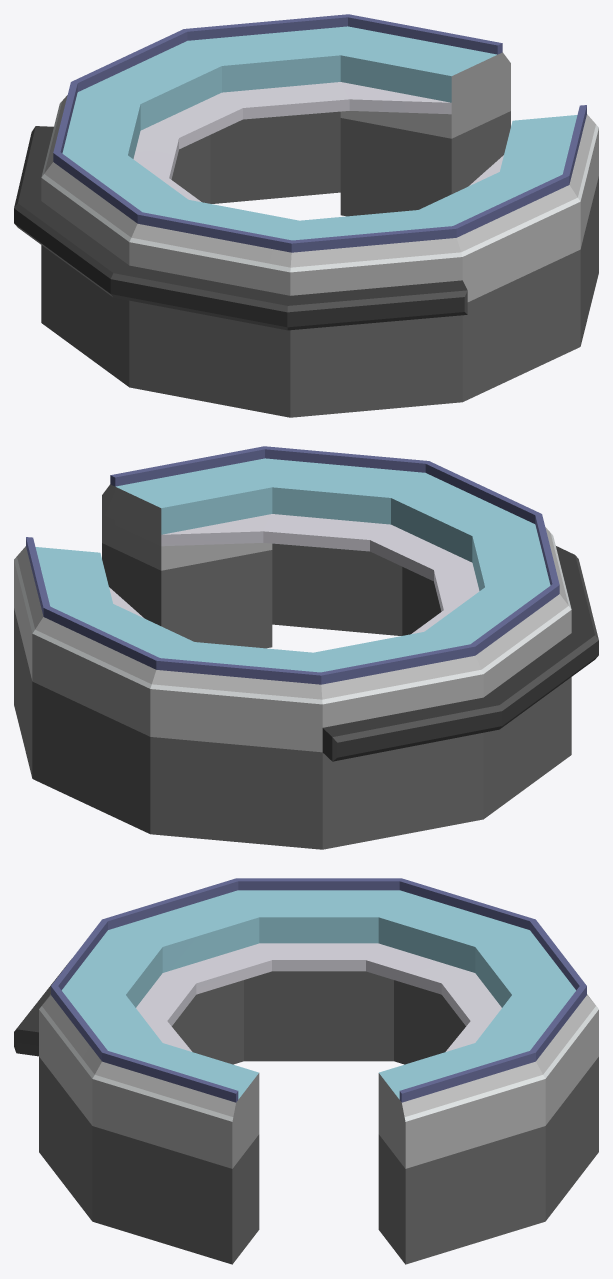
The model's file is Museum_Kiosk.fbx.
The picture shows the model from 3 angles, top to bottom: view 1: azimuth 30°, elevation 25°; view 2: azimuth 150°, elevation 25°; view 3: azimuth 270°, elevation 25°; orthographic projection.
Parts seen in each view (by area): view 1: Circle; view 2: Circle; view 3: Circle.
Boxes of the visible parts, left/top/right/bottom form: Circle: left=14, top=14, right=598, bottom=417; Circle: left=14, top=446, right=598, bottom=849; Circle: left=14, top=878, right=598, bottom=1264.
Size of the model in its own units: 3.66 by 1.2 by 3.84.
